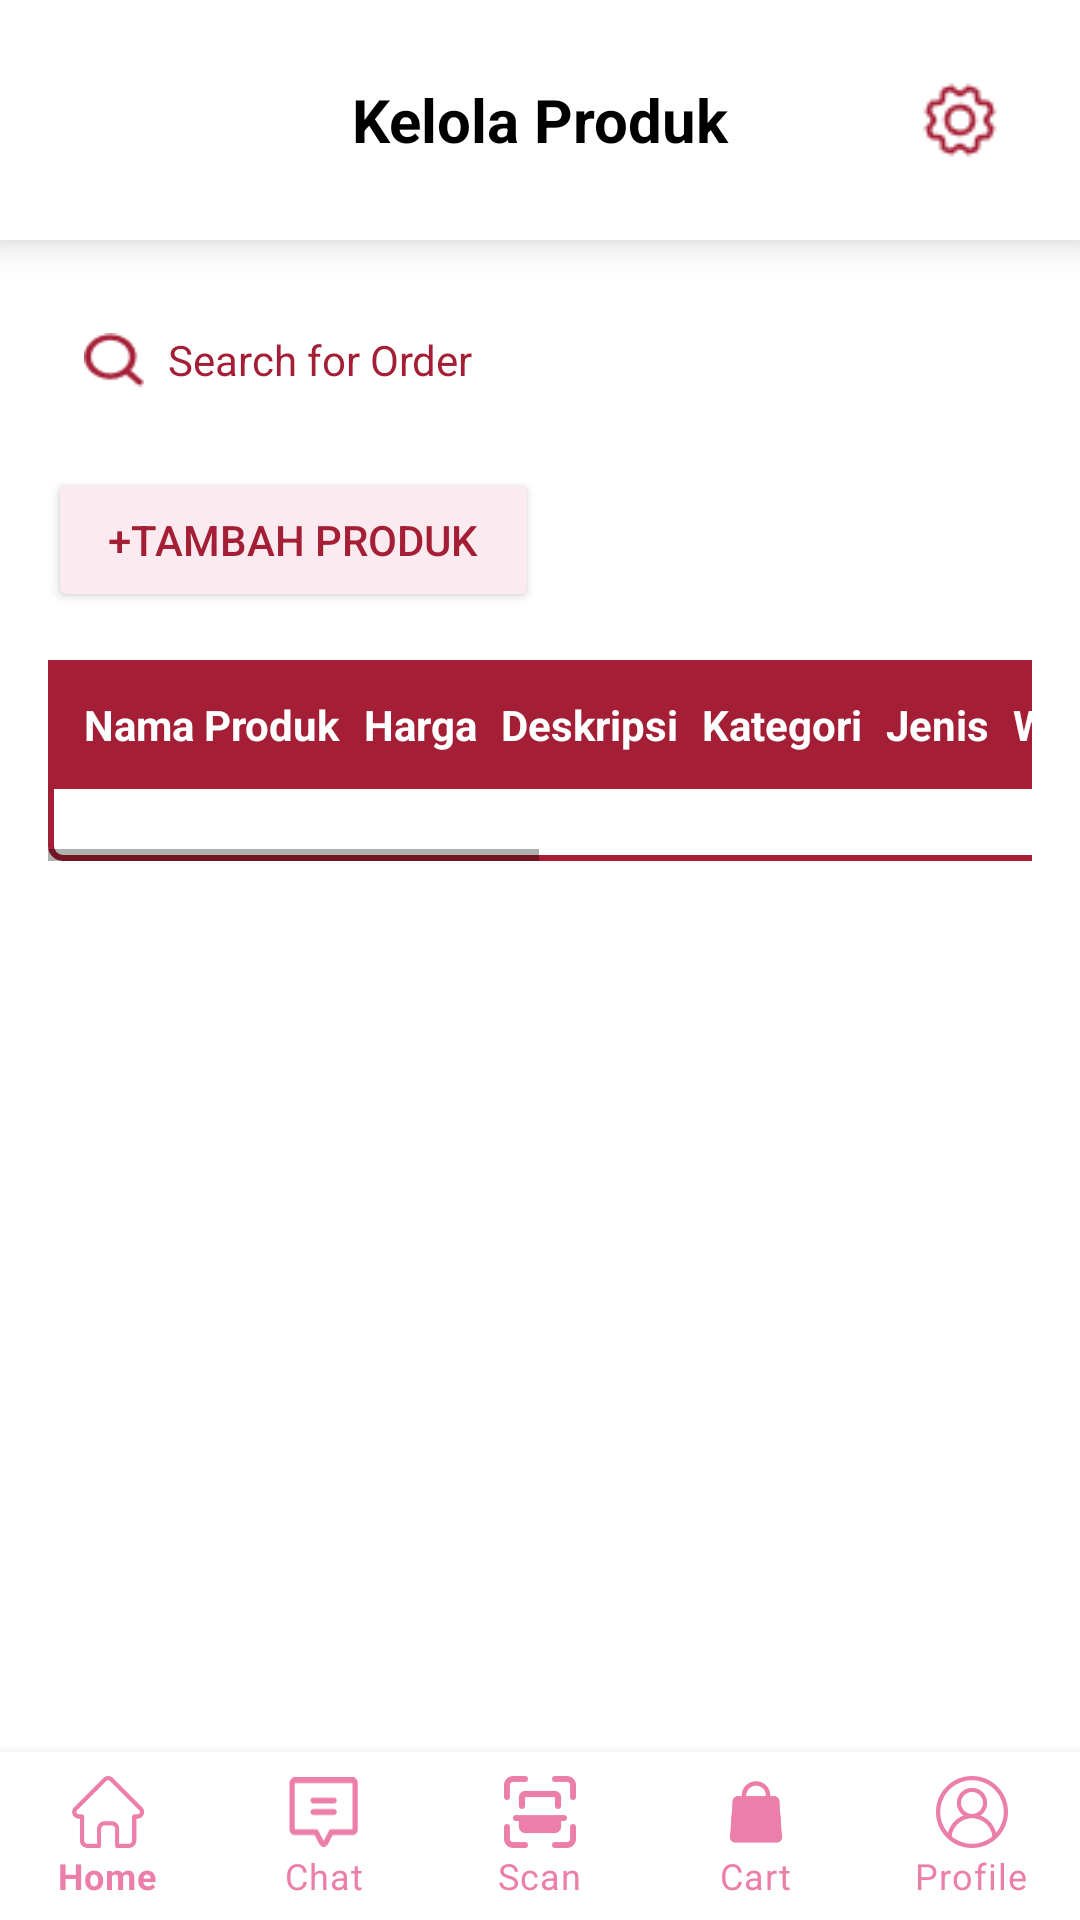

Screen size 1080px x 1920px. Icon name, then its center in pixels as [x,y]:
Setting: [960,120]
